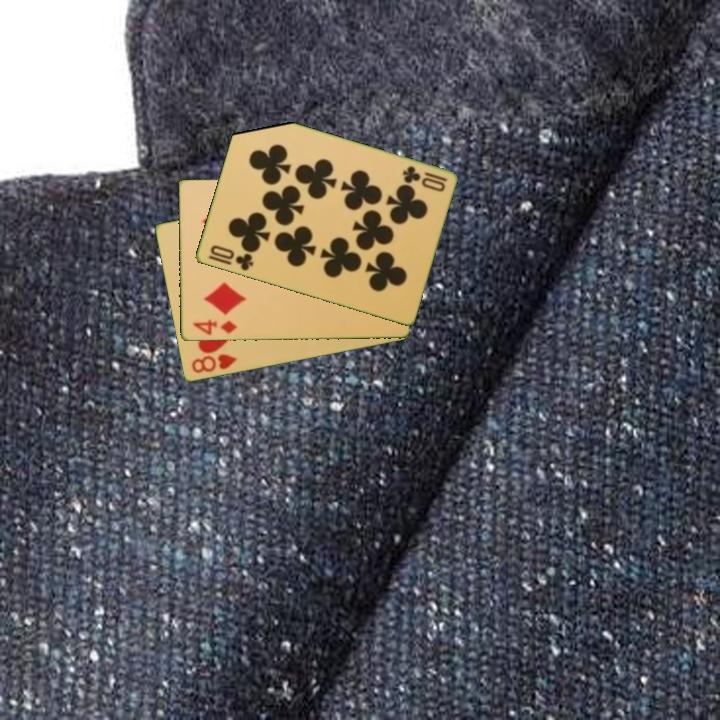10c: (398, 162, 449, 195), (206, 242, 256, 274)
4d: (189, 316, 240, 338)
8h: (188, 351, 240, 376)
